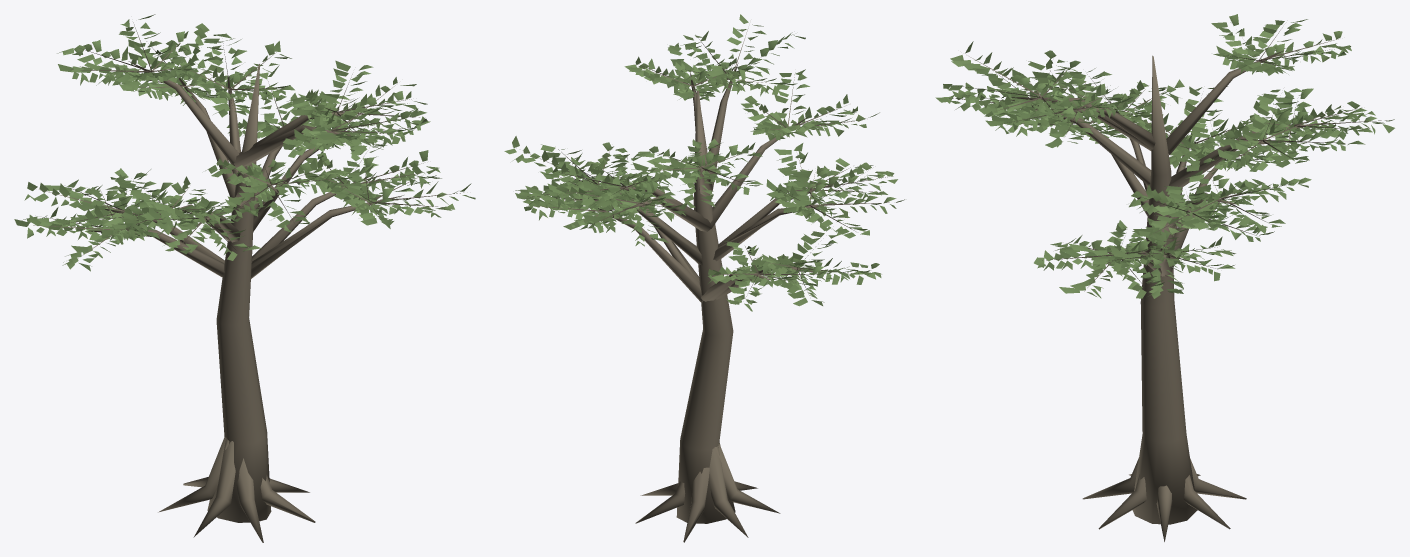
Rendered from rainforest_tree_lod.glb.
The picture shows the model from 3 angles, left to right: view 1: azimuth 30°, elevation 25°; view 2: azimuth 150°, elevation 25°; view 3: azimuth 270°, elevation 25°; orthographic projection. The views are drawn at different scales.
Parts seen in each view (by area): view 1: Foliage, Trunk; view 2: Foliage, Trunk; view 3: Foliage, Trunk.
Part boxes in pixels (x1,y1,x2,y2): Foliage: [14, 14, 475, 271]; Trunk: [28, 22, 463, 542]; Foliage: [504, 14, 904, 311]; Trunk: [524, 28, 897, 542]; Foliage: [935, 14, 1394, 298]; Trunk: [949, 27, 1391, 541].
Bounding box in the file's own units: 3.91 × 4.23 × 3.82.
